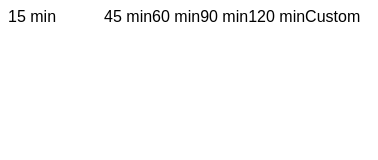
Test: DurationSelect › shows custom input when clicking Custom
The width and height of the screenshot is (378, 160).
Click the button "Custom": click(333, 17) x1=305 y1=8 x2=360 y2=26
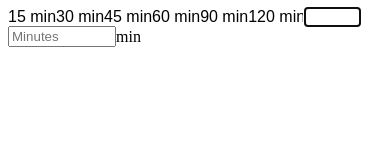
Expected: the number field named "Custom duration in minutes" is shown, x1=8 y1=26 x2=116 y2=47
